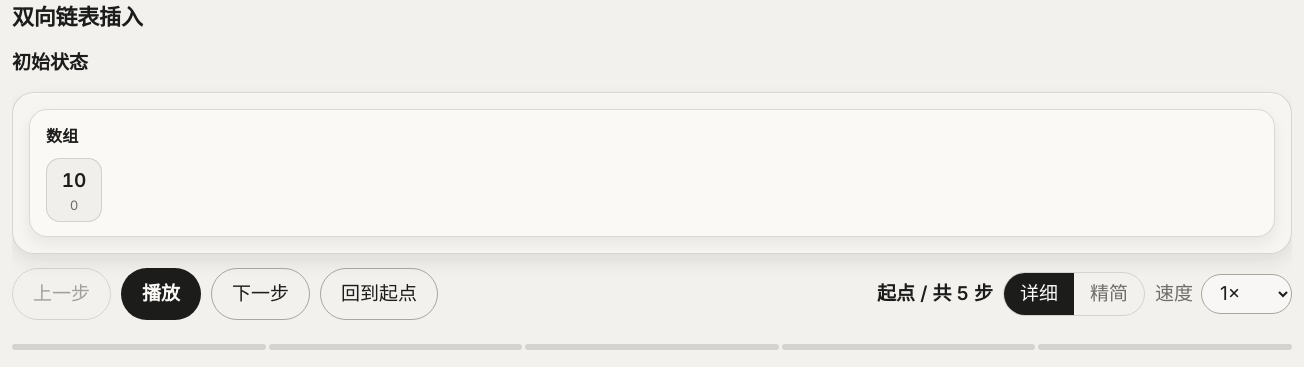
it: animation player › starts on the detailed cut and can switch to the brief one
Check: the text "起点 / 共 5 步" is shown, box [877,279,993,309]
Check: the button "详细" is shown, box [1004,273,1074,315]
Click the button "精简": (1109, 294) [1074,273,1144,315]
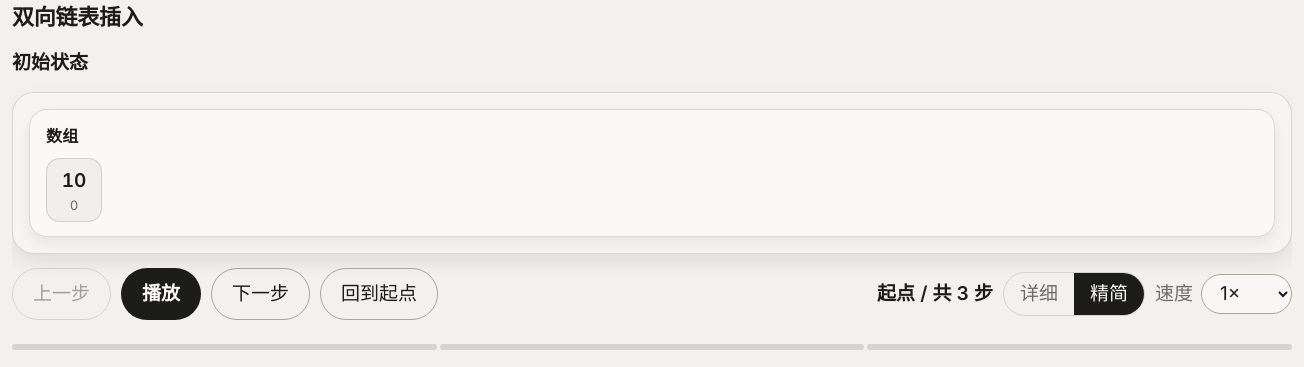
Check: the text "起点 / 共 3 步" is shown, box [877,279,993,309]
